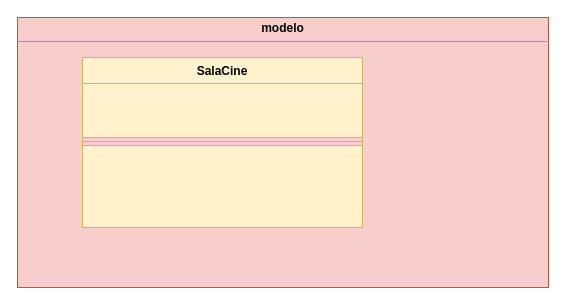
Some shapes in this 566 by 305 pixel diagram are drawn without their labels. The centre of each missing label's shape, as x and y in pixels:
"+ reservarAsiento(): + liberarAsiento(): + get & set" belongs at point (222, 186).
"- asientos: boolean [ ] - precios: Double [ ] - nombrePelicula: String" belongs at point (222, 110).
